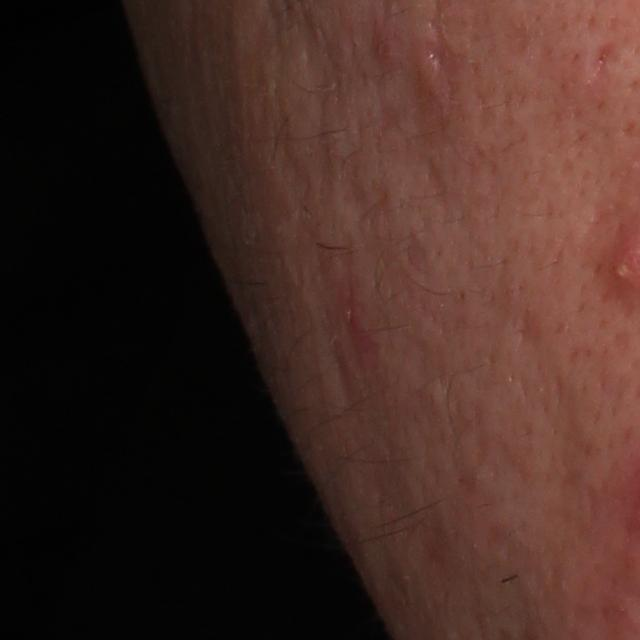atrophic_scar: (429, 22, 475, 85), (583, 36, 620, 72)
papule: (410, 36, 442, 106), (369, 20, 400, 69)
